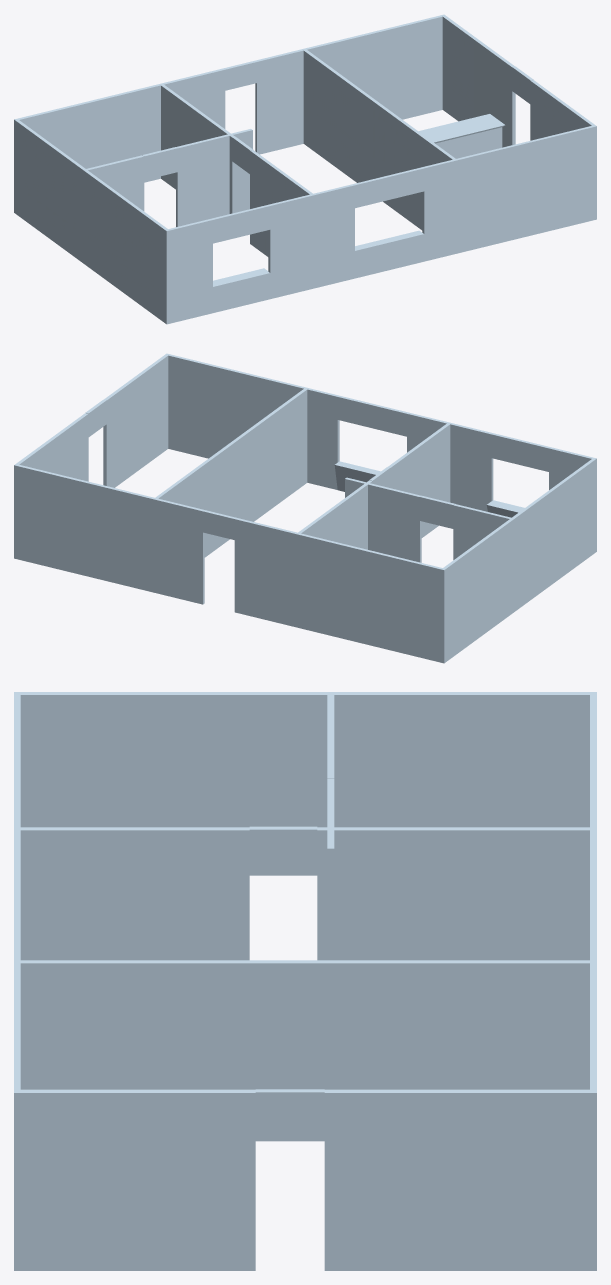
File: casadeidoso.fbx
3 views of the same model, one above another, from view 1: azimuth 30°, elevation 25°; view 2: azimuth 150°, elevation 25°; view 3: azimuth 270°, elevation 25° (orthographic). The views are drawn at different scales.
Visible parts, largest first — view 1: Plane; view 2: Plane; view 3: Plane.
Boxes of the visible parts, x1,y1,x2,y2 form: Plane: [14, 14, 596, 324]; Plane: [14, 353, 596, 663]; Plane: [14, 692, 596, 1270].
Size of the model in its own units: 337 by 70 by 207.
